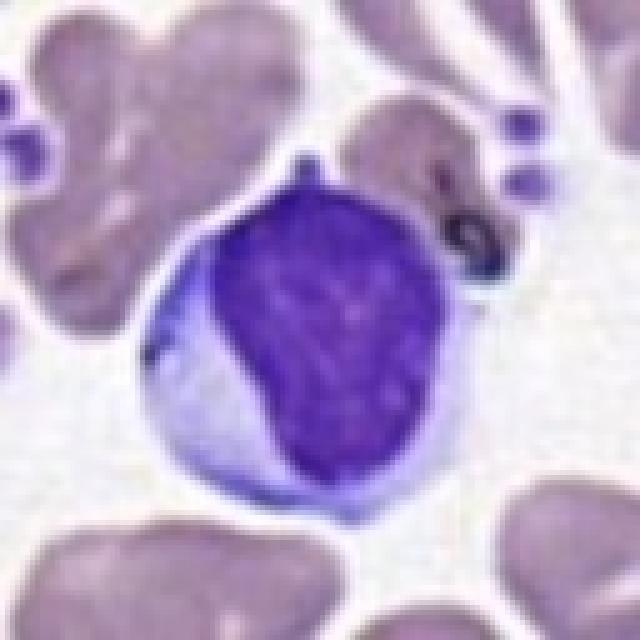lympho: (129, 150, 488, 532)
